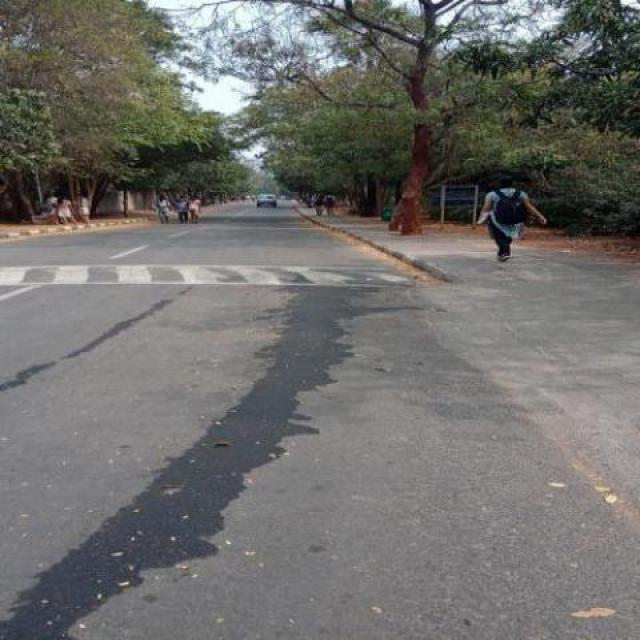Speed Bump: (1, 265, 420, 287)
